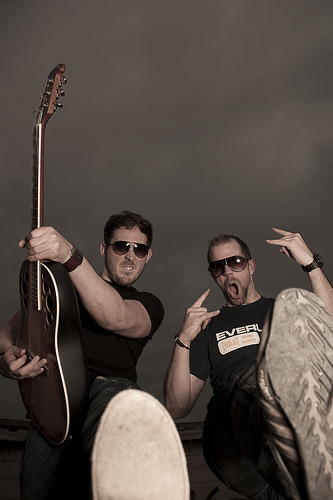guitar: (15, 57, 84, 454)
